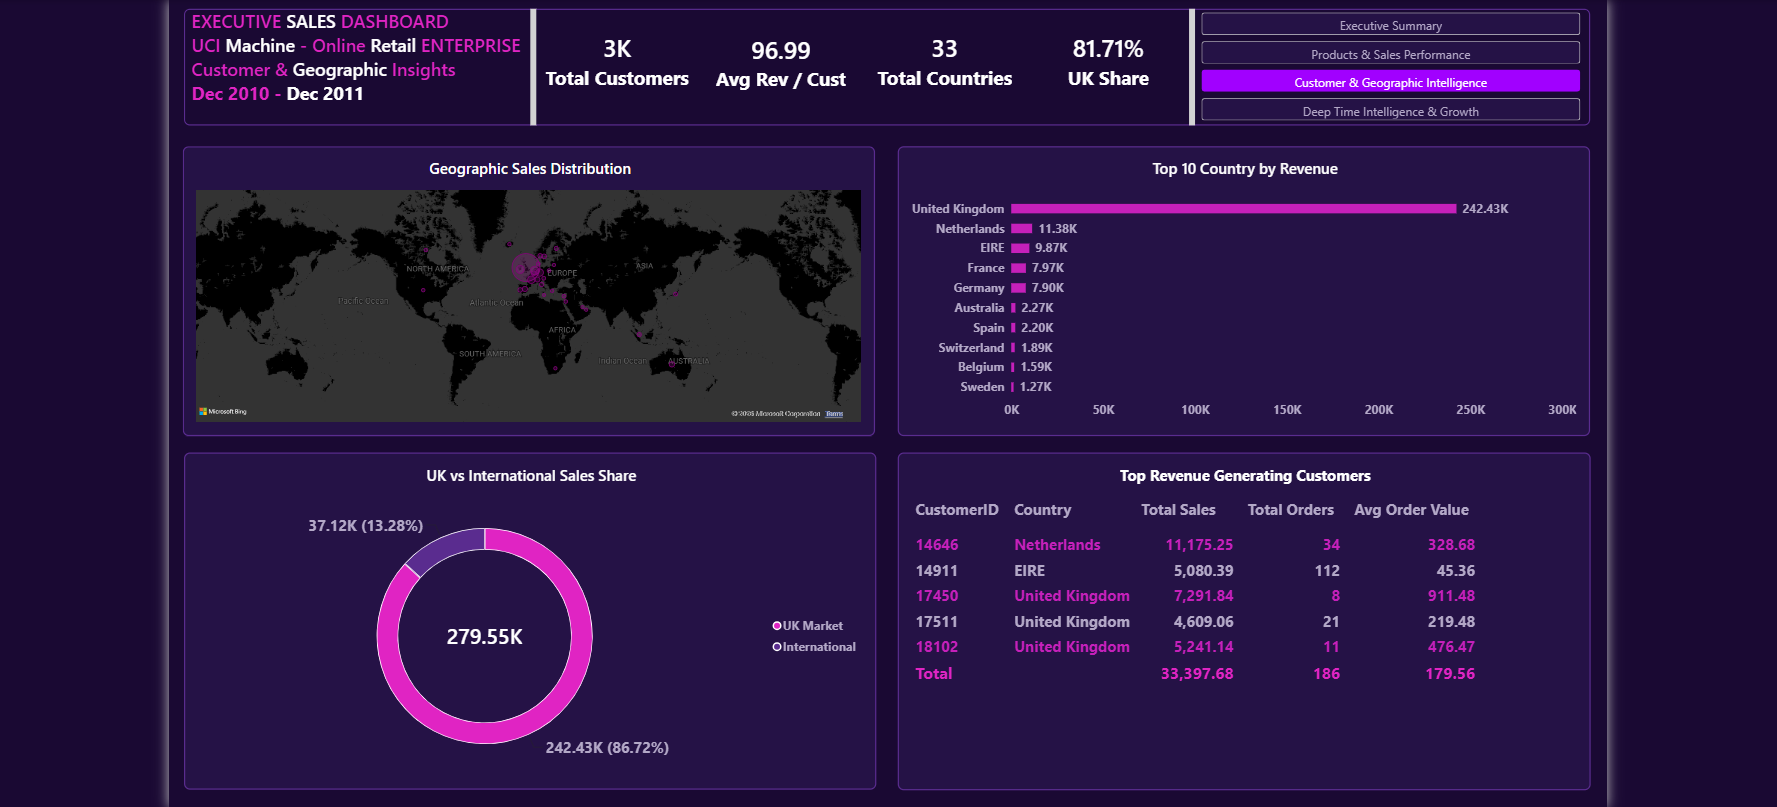

What the dashboard file says about the page in this screenshot:
{"tool":"powerbi","page":{"name":"Customer & Geographic Intelligence","canvas":[1920,1080],"ordinal":2},"visuals":[{"type":"shape","box":[20.3,11.9,1878.3,155.8],"z":0},{"type":"textbox","box":[310,930,300,150],"z":1000},{"type":"textbox","box":[1402.4,50.8,13.5,32.2],"z":2000},{"type":"textbox","box":[30.5,11.9,445.5,155.8],"z":3000},{"type":"map","fields":{"Category":["Dataset.Country"],"Size":["_Measures.Total Sales"]},"box":[18.1,195.4,925,387],"z":4000},{"type":"cardVisual","fields":{"Data":["_Measures.Total Customers"]},"box":[474.1,32.6,249.7,97.7],"z":5000},{"type":"cardVisual","fields":{"Data":["_Measures.Avg Revenue Per Customer"]},"box":[692.9,34.4,249.7,97.7],"z":6000},{"type":"cardVisual","fields":{"Data":["_Measures.Total Active Countries"]},"box":[911.7,33.4,249.7,97.7],"z":7000},{"type":"cardVisual","fields":{"Data":["_Measures.UK Share"]},"box":[1130.4,33.4,249.7,97.7],"z":8000},{"type":"shape","box":[1255.7,11.7,221.9,155.8],"z":9000},{"type":"pageNavigator","box":[1378.7,16.9,506.4,147.4],"z":10000},{"type":"shape","box":[375.7,11.7,221.9,155.8],"z":12000},{"type":"clusteredBarChart","fields":{"Category":["Dataset.Country"],"Y":["_Measures.Total Sales"]},"box":[972.7,194.5,925,387.3],"z":13000},{"type":"donutChart","fields":{"Category":["Dataset.Market Type"],"Y":["_Measures.Total Sales"]},"box":[20,603.6,925,450],"z":14000},{"type":"tableEx","title":"Top Revenue Generating Customers","fields":{"Values":["Dataset.CustomerID","Dataset.Country","_Measures.Total Sales","_Measures.Total Orders","_Measures.Avg Order Value"]},"box":[972.7,603.6,925.5,450.9],"z":15000}]}

Visuals, with their boxes on the page's 1920x1080 design canvas (x1, y1, x2, y2). These are canvas units, not pixel positions in the 1777x807 screenshot, which may show the page scaled, cropped or inside an application window:
shape: l=20, t=12, r=1899, b=168
textbox: l=310, t=930, r=610, b=1080
textbox: l=1402, t=51, r=1416, b=83
textbox: l=30, t=12, r=476, b=168
map - Dataset.Country x _Measures.Total Sales: l=18, t=195, r=943, b=582
cardVisual - _Measures.Total Customers: l=474, t=33, r=724, b=130
cardVisual - _Measures.Avg Revenue Per Customer: l=693, t=34, r=943, b=132
cardVisual - _Measures.Total Active Countries: l=912, t=33, r=1161, b=131
cardVisual - _Measures.UK Share: l=1130, t=33, r=1380, b=131
shape: l=1256, t=12, r=1478, b=168
pageNavigator: l=1379, t=17, r=1885, b=164
shape: l=376, t=12, r=598, b=168
clusteredBarChart - Dataset.Country x _Measures.Total Sales: l=973, t=194, r=1898, b=582
donutChart - Dataset.Market Type x _Measures.Total Sales: l=20, t=604, r=945, b=1054
"Top Revenue Generating Customers" tableEx: l=973, t=604, r=1898, b=1054
